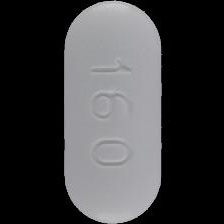50268-442: (0, 0, 224, 224)
